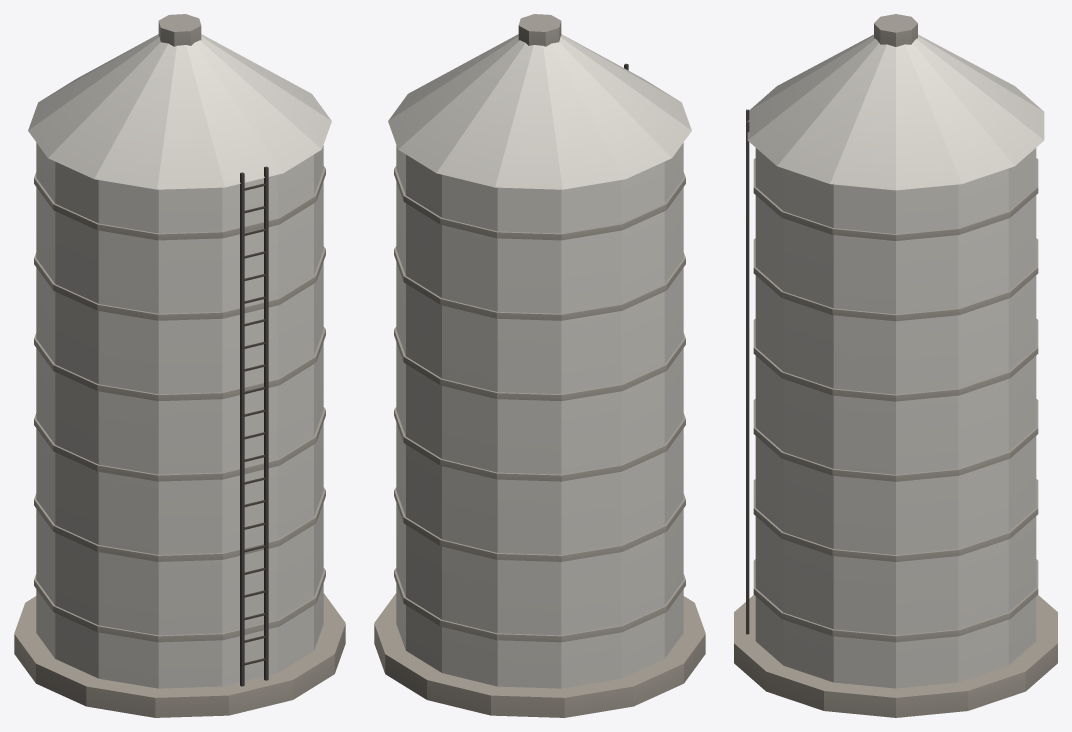
The model's file is silo_tower.glb.
3 renders of one model, left to right at view 1: azimuth 30°, elevation 25°; view 2: azimuth 150°, elevation 25°; view 3: azimuth 270°, elevation 25°, orthographic.
Visible parts, largest first — view 1: silo_tower; view 2: silo_tower; view 3: silo_tower.
Part boxes in pixels (x1,y1,x2,y2): silo_tower: [14, 14, 345, 717]; silo_tower: [374, 14, 705, 717]; silo_tower: [734, 14, 1057, 717].
Size of the model in its own units: 6 by 12.45 by 5.85.
Materials: 1 (1 with a texture image).
